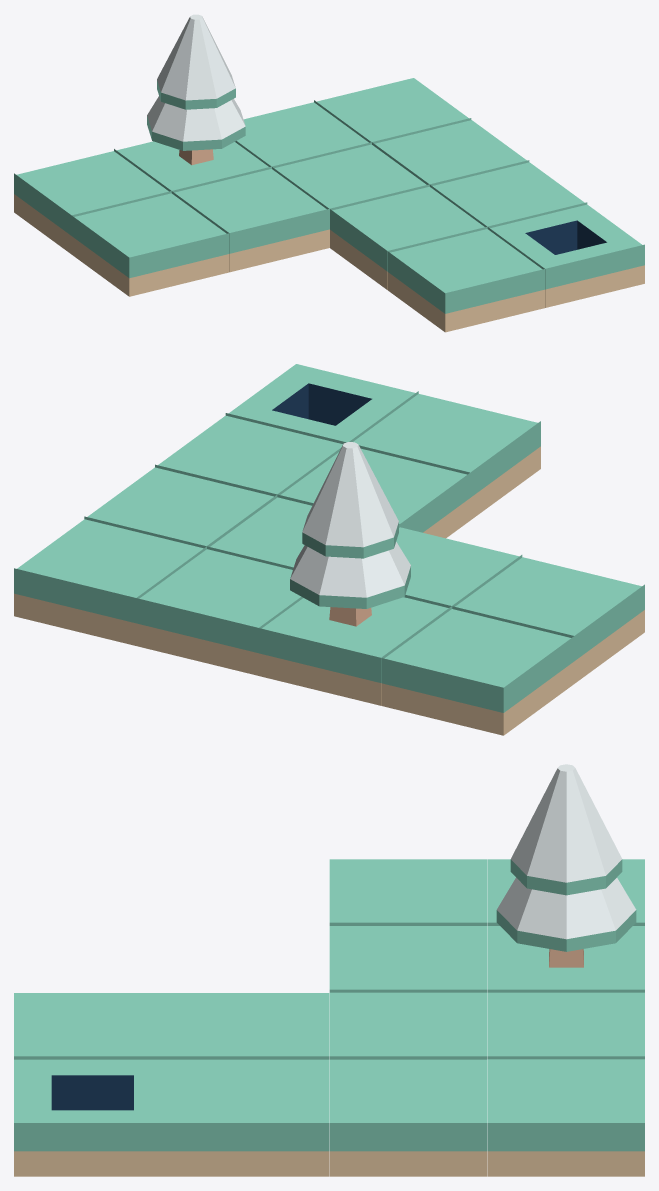
The model's file is FaseUm.glb.
3 views of the same model, one above another, from view 1: azimuth 30°, elevation 25°; view 2: azimuth 150°, elevation 25°; view 3: azimuth 270°, elevation 25° (orthographic). The views are drawn at different scales.
Visible parts, largest first — view 1: tile_rock.02_01, tile_rock.04_03, tile_rock.02_02, tile_rock.04_04, snow_detail_treeLarge, tile_rock.01_01, tile_rock.03_03, tile_rock.02_03, tile_rock.02_04, tile_rock.03_04, tile_rock.01_04, tile_rock.01_03 (+1 smaller); view 2: tile_rock.01_01, tile_rock.01_04, snow_detail_treeLarge, tile_rock.01_03, tile_rock.01_02, tile_rock.02_01, tile_rock.04_03, tile_rock.02_04, tile_rock.04_04, tile_rock.03_04, tile_rock.03_03, tile_rock.02_02 (+1 smaller); view 3: tile_rock.03_04, tile_rock.04_04, tile_rock.01_04, tile_rock.02_04, snow_detail_treeLarge, tile_rock.01_03, tile_rock.02_03, tile_rock.03_03, tile_rock.02_01, tile_rock.02_02, tile_rock.04_03, tile_rock.01_02 (+1 smaller).
Part boxes in pixels (bbox=[...]): tile_rock.02_01: bbox=[71, 193, 228, 296]; tile_rock.04_03: bbox=[387, 229, 544, 332]; tile_rock.02_02: bbox=[172, 169, 329, 272]; tile_rock.04_04: bbox=[487, 204, 644, 307]; snow_detail_treeLarge: bbox=[147, 14, 245, 165]; tile_rock.01_01: bbox=[14, 151, 171, 254]; tile_rock.03_03: bbox=[330, 186, 487, 289]; tile_rock.02_03: bbox=[272, 144, 429, 247]; tile_rock.02_04: bbox=[372, 120, 529, 186]; tile_rock.03_04: bbox=[430, 162, 587, 228]; tile_rock.01_04: bbox=[314, 78, 471, 144]; tile_rock.01_03: bbox=[235, 102, 371, 168]; tile_rock.01_01: bbox=[381, 609, 574, 735]; tile_rock.01_04: bbox=[14, 519, 206, 645]; snow_detail_treeLarge: bbox=[290, 442, 410, 626]; tile_rock.01_03: bbox=[136, 549, 303, 675]; tile_rock.01_02: bbox=[258, 597, 451, 705]; tile_rock.02_01: bbox=[452, 557, 644, 683]; tile_rock.04_03: bbox=[353, 394, 540, 520]; tile_rock.02_04: bbox=[84, 467, 277, 548]; tile_rock.04_04: bbox=[225, 364, 418, 443]; tile_rock.03_04: bbox=[155, 415, 342, 496]; tile_rock.03_03: bbox=[277, 448, 470, 538]; tile_rock.02_02: bbox=[396, 527, 522, 608]; tile_rock.03_04: bbox=[171, 1059, 329, 1176]; tile_rock.04_04: bbox=[14, 1059, 171, 1176]; tile_rock.01_04: bbox=[487, 1059, 644, 1176]; tile_rock.02_04: bbox=[329, 1059, 486, 1176]; snow_detail_treeLarge: bbox=[496, 764, 636, 967]; tile_rock.01_03: bbox=[487, 992, 644, 1059]; tile_rock.02_03: bbox=[329, 992, 486, 1059]; tile_rock.03_03: bbox=[171, 993, 329, 1059]; tile_rock.02_01: bbox=[329, 859, 486, 925]; tile_rock.02_02: bbox=[329, 926, 486, 992]; tile_rock.04_03: bbox=[14, 993, 171, 1059]; tile_rock.01_02: bbox=[487, 926, 644, 992].
Bounding box in the file's own units: 2.26 × 0.9651 × 2.26.
